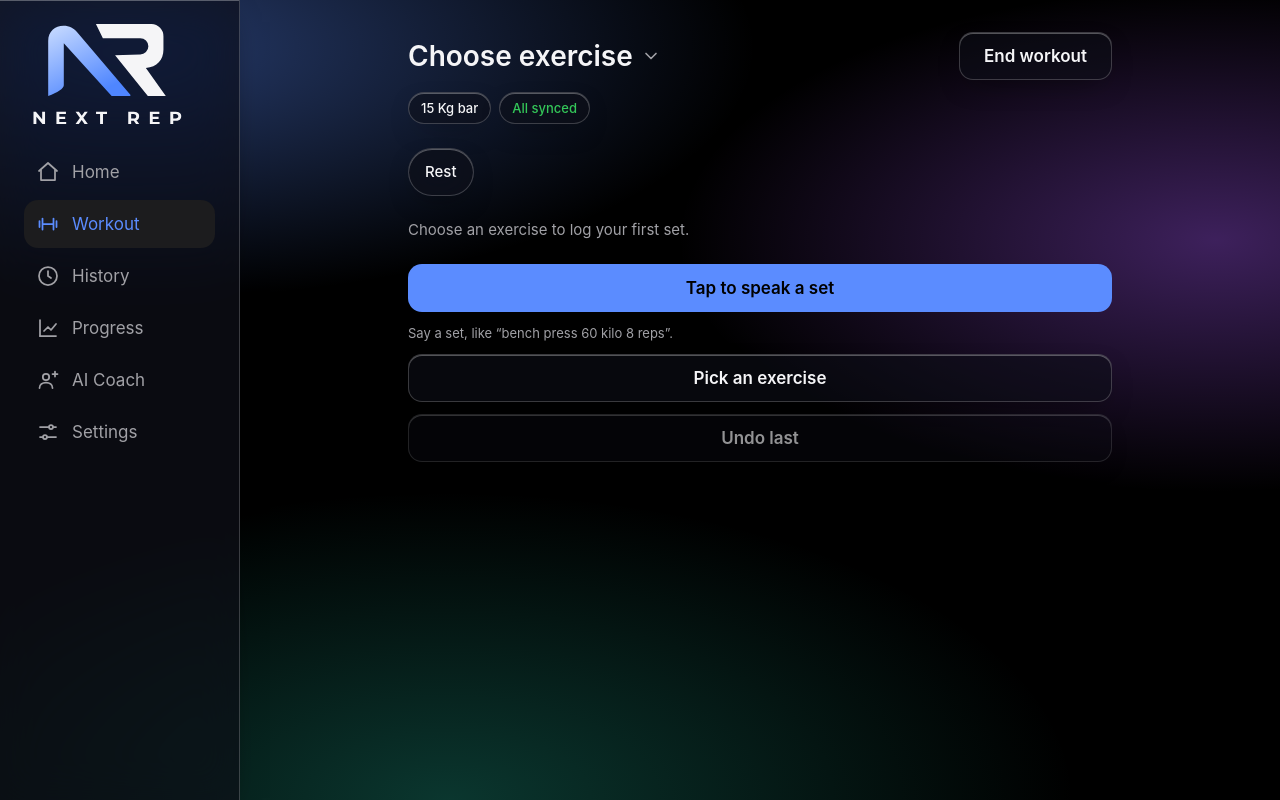
Test: starting and replacing a rest › a new preset replaces a running rest instead of adding to it
The image size is (1280, 800).
Click the button "Rest": (441, 172) [408,148,474,196]
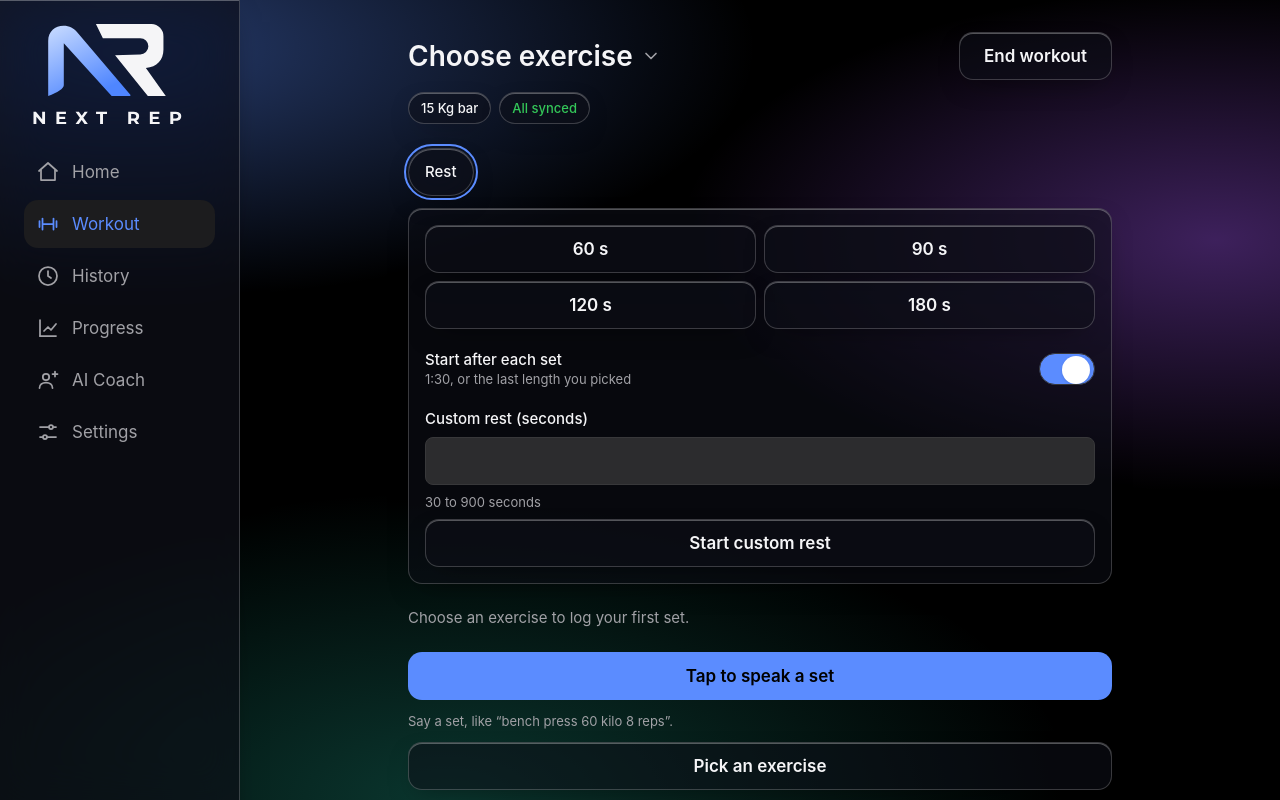
Click the button "60 s": (590, 249) [425,225,756,273]
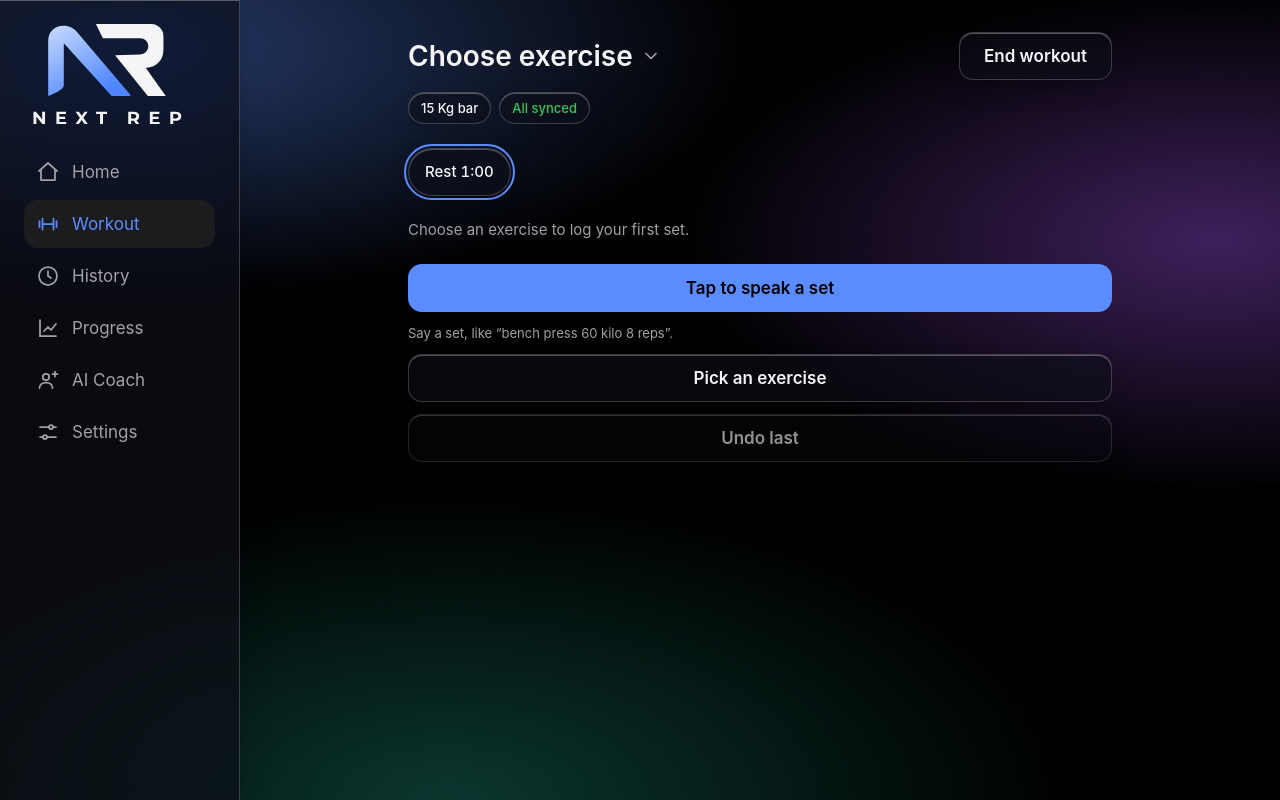
Click the button "Rest 1:00": (459, 172) [408,148,511,196]
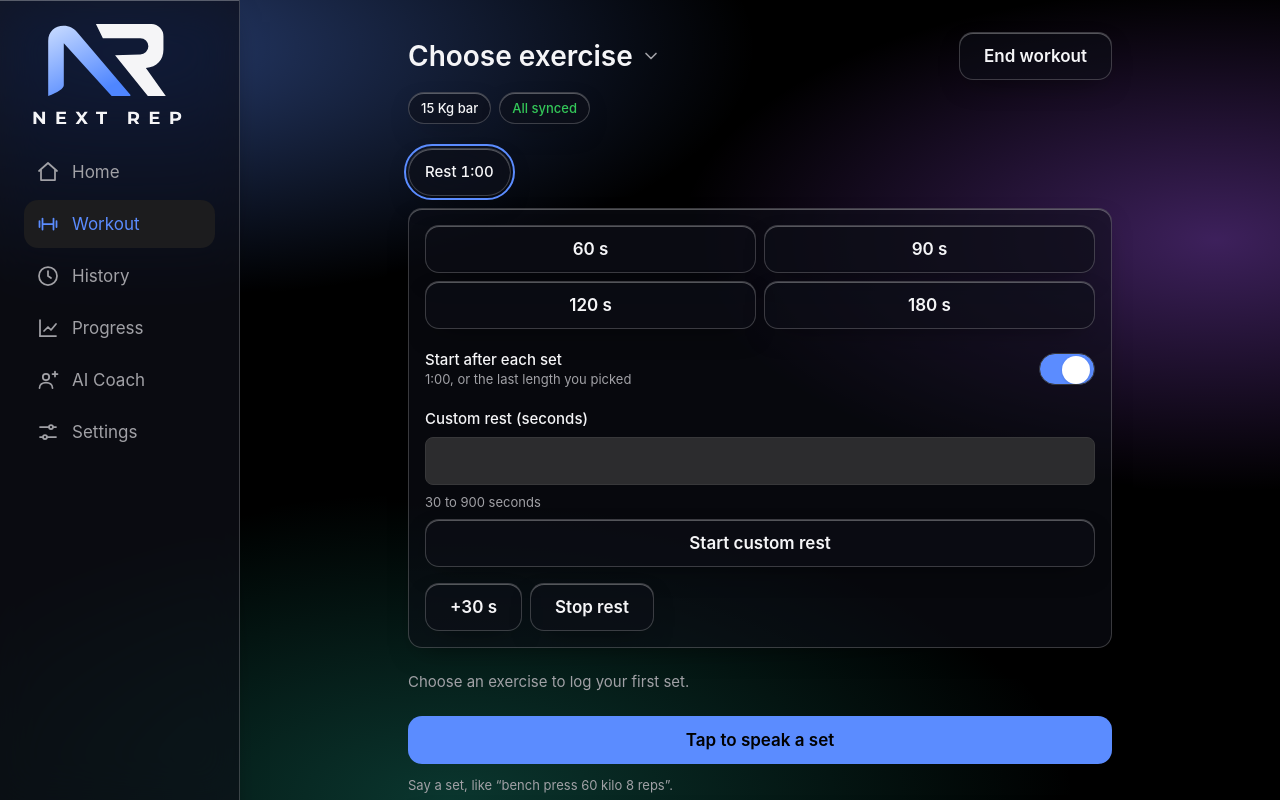
Click the button "180 s": (930, 305) [764,281,1095,329]
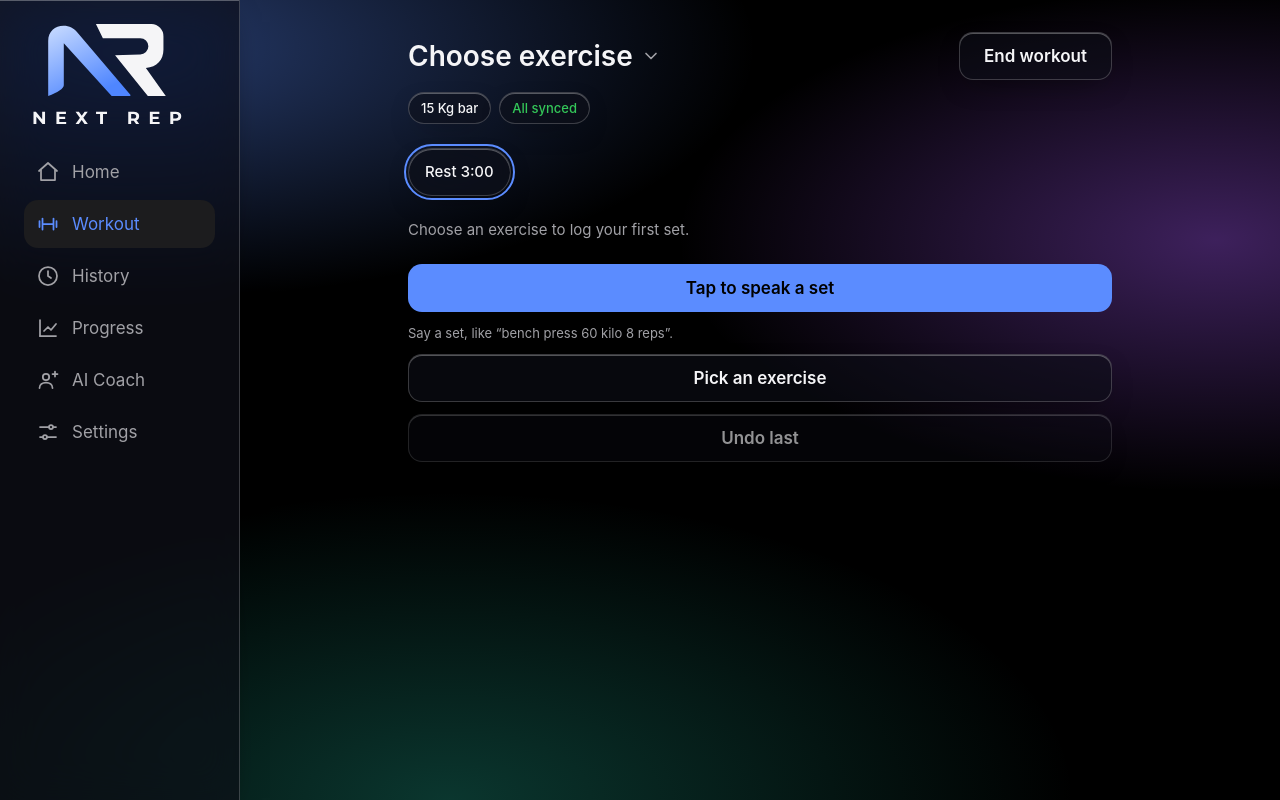
Expected: the button "Rest 3:00" is shown, [408,148,511,196]
